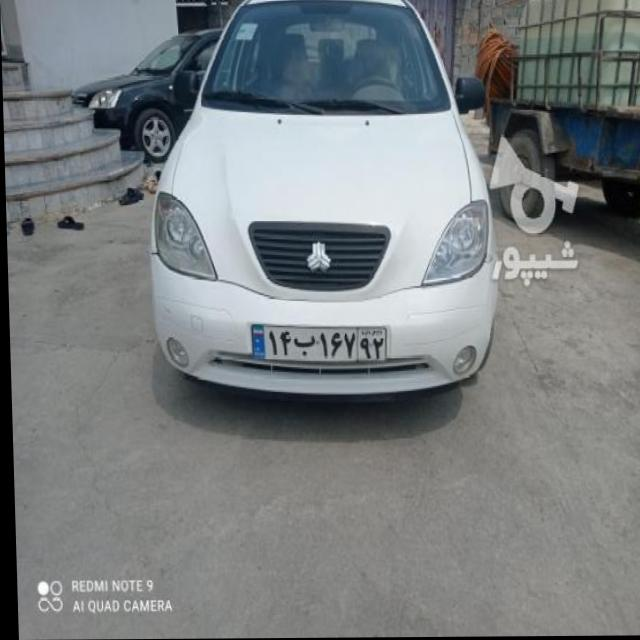licence: (247, 317, 385, 365)
